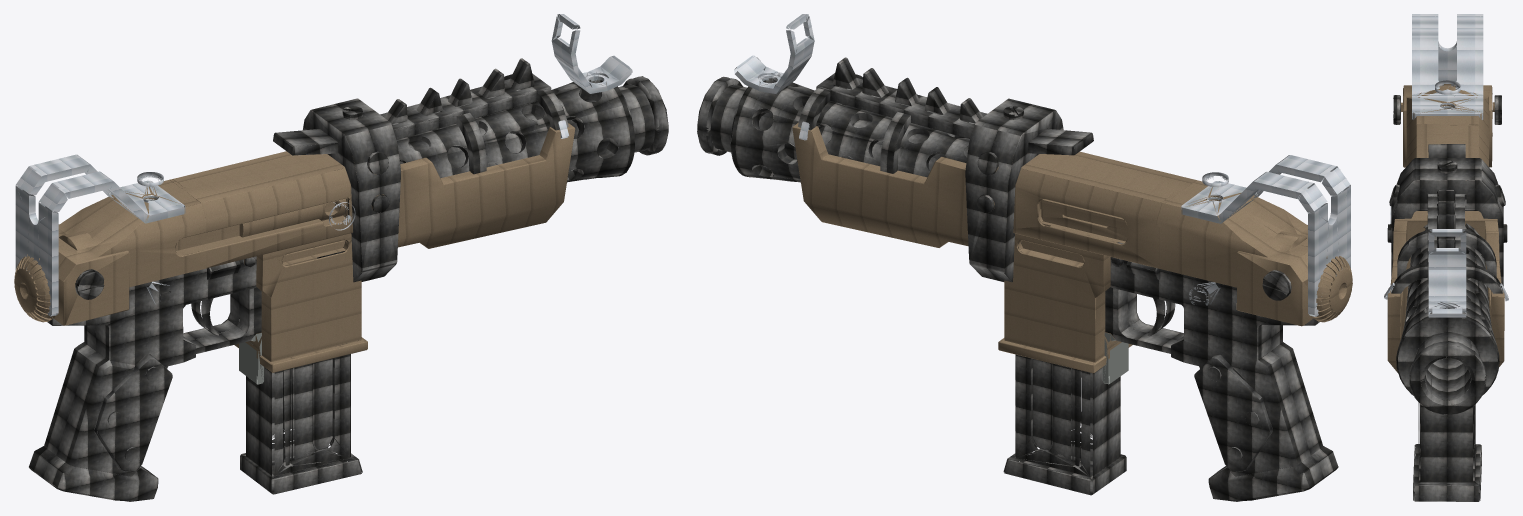
File: tactical_submachine_gun.glb
The picture shows the model from 3 angles, left to right: view 1: azimuth 30°, elevation 25°; view 2: azimuth 150°, elevation 25°; view 3: azimuth 270°, elevation 25°; orthographic projection. The views are drawn at different scales.
Parts seen in each view (by area): view 1: bolt_Levergunmetal1Mtl_0; view 2: bolt_Levergunmetal1Mtl_0; view 3: bolt_Levergunmetal1Mtl_0.
Boxes of the visible parts, <box> form: bolt_Levergunmetal1Mtl_0: <box>14,14,668,501</box>; bolt_Levergunmetal1Mtl_0: <box>697,14,1352,501</box>; bolt_Levergunmetal1Mtl_0: <box>1384,14,1508,501</box>.
Size of the model in its own units: 1 by 0.5912 by 0.1812.
7 materials, 6 textured.
